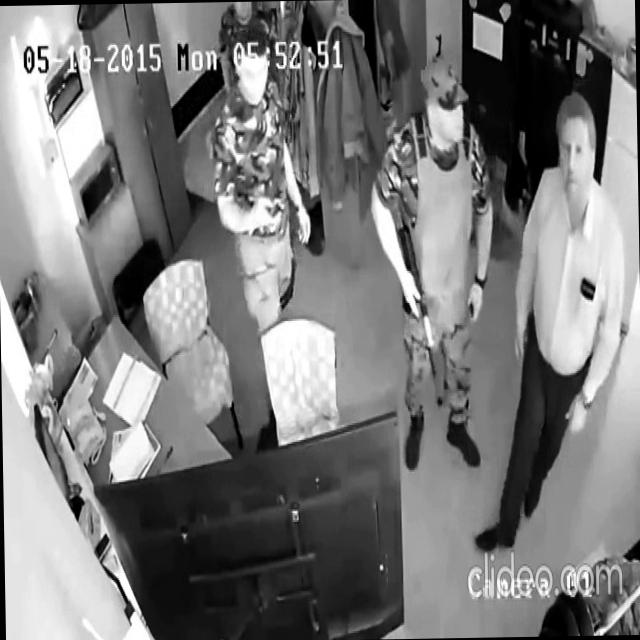gun: (396, 217, 442, 406)
person: (465, 89, 632, 554), (210, 19, 314, 334), (218, 1, 272, 100)
person with a gun: (368, 58, 498, 470)
